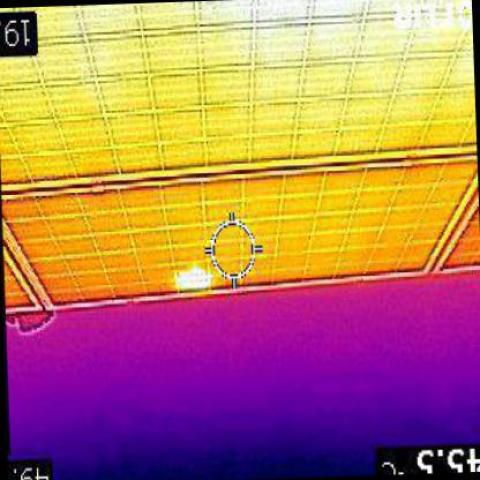fault: (176, 264, 208, 285)
